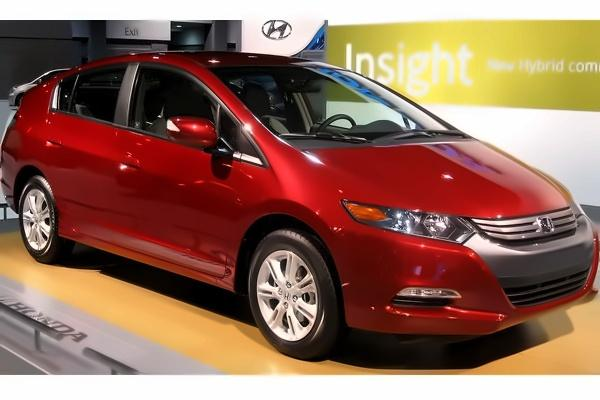Car hood: (305, 137, 583, 218)
Driver-s door - -F-R-: (121, 52, 228, 282)
Fender - -F-R-: (226, 124, 354, 290)
Fender - -R-R-: (1, 99, 49, 179)
Front bumper: (337, 240, 600, 338)
Headlight - -R-: (337, 193, 480, 249)
Passenger-s door - -R-R-: (37, 50, 122, 248)
Rear bumper: (0, 149, 24, 230)
Side bumper - -R-: (48, 213, 241, 298)
Side mirror - -R-: (163, 110, 228, 153)
